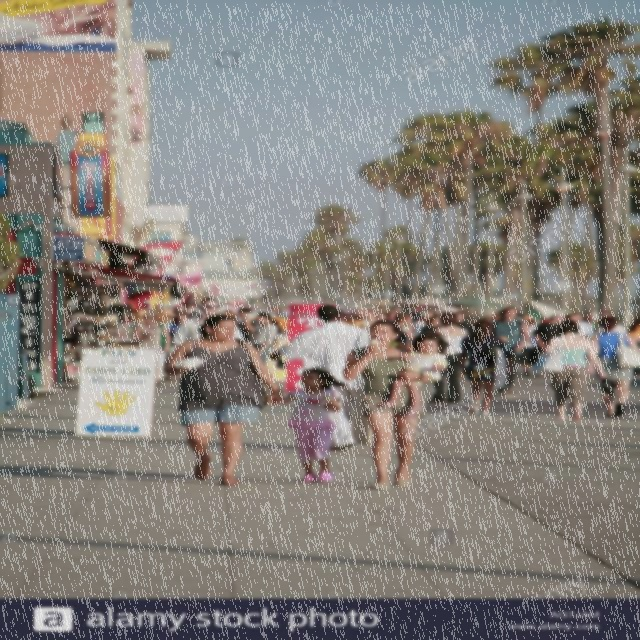pessoa: (164, 314, 286, 486), (267, 303, 374, 451), (342, 318, 427, 490), (527, 318, 607, 422), (272, 368, 342, 482), (376, 330, 450, 419), (586, 315, 640, 419), (458, 319, 512, 416), (428, 312, 471, 403), (172, 297, 246, 347), (488, 306, 530, 394), (132, 312, 172, 386), (246, 312, 280, 364), (532, 313, 568, 361), (520, 314, 542, 378), (390, 312, 416, 350), (235, 307, 263, 342), (72, 292, 113, 314), (343, 308, 383, 329), (596, 310, 630, 334), (563, 313, 595, 338), (412, 310, 442, 334), (168, 313, 192, 339), (626, 316, 640, 353), (170, 302, 200, 314), (456, 312, 474, 330), (484, 314, 504, 324), (220, 310, 238, 320), (384, 310, 399, 320), (184, 313, 202, 321)
